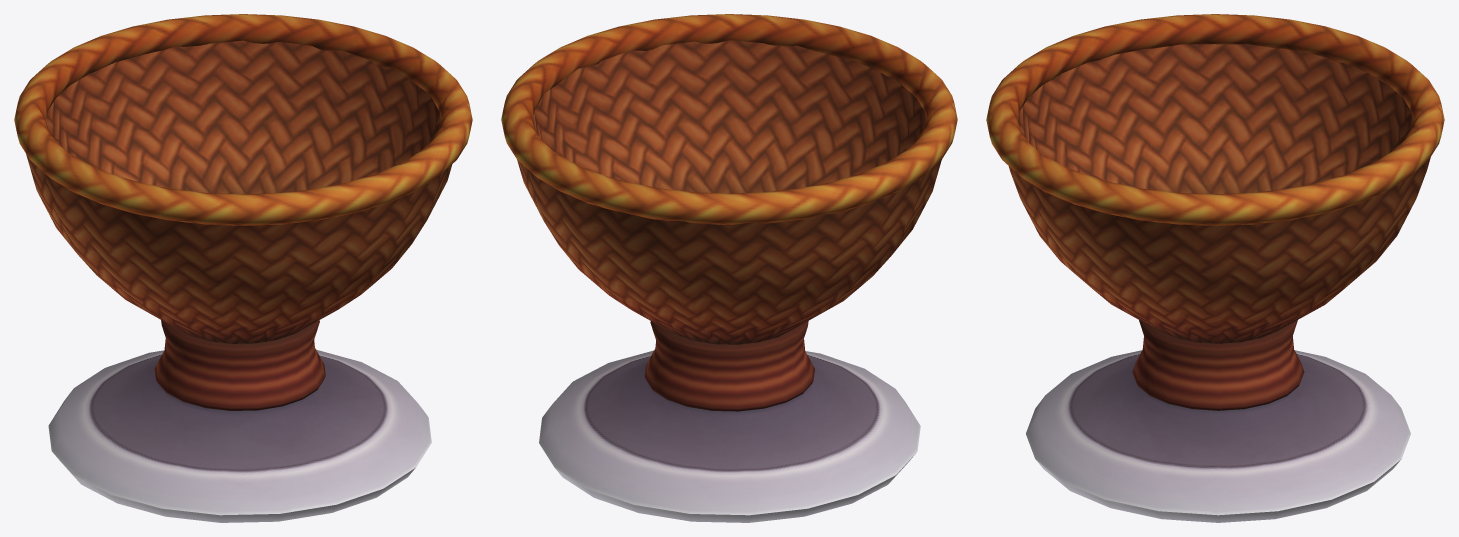
The model's file is SE_Basket_02.fbx.
3 views of the same model, side by side, from view 1: azimuth 30°, elevation 25°; view 2: azimuth 150°, elevation 25°; view 3: azimuth 270°, elevation 25° (orthographic).
Visible parts, largest first — view 1: SE_Basket_02; view 2: SE_Basket_02; view 3: SE_Basket_02.
Boxes of the visible parts, x1,y1,x2,y2 form: SE_Basket_02: [14, 14, 472, 522]; SE_Basket_02: [501, 14, 957, 522]; SE_Basket_02: [986, 14, 1444, 522].
Size of the model in its own units: 7.26 by 5.96 by 7.26.
